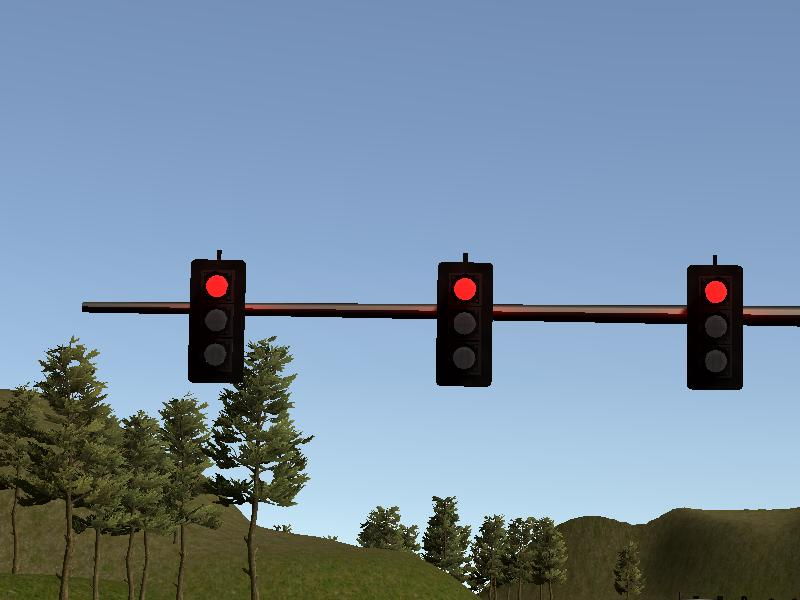Red: (687, 266, 744, 390), (436, 262, 491, 387), (191, 259, 242, 383)
